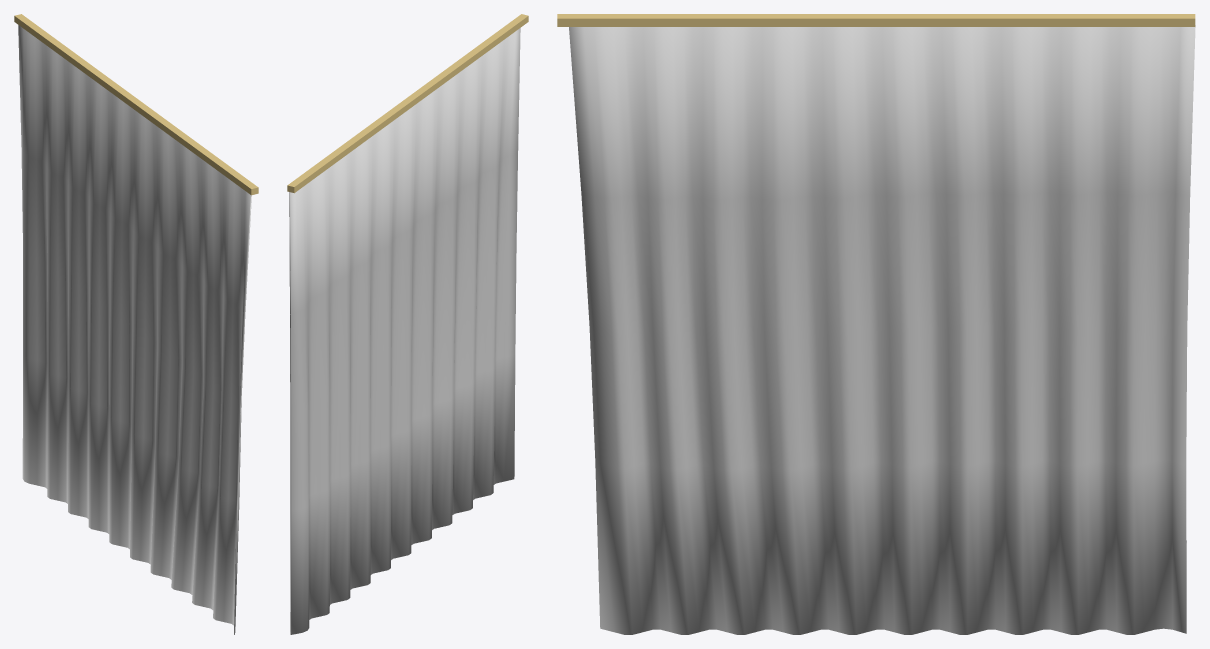
File: cortina.fbx
The picture shows the model from 3 angles, left to right: view 1: azimuth 30°, elevation 25°; view 2: azimuth 150°, elevation 25°; view 3: azimuth 270°, elevation 25°; orthographic projection. The views are drawn at different scales.
Visible parts, largest first — view 1: Plane.015, Cube.004; view 2: Plane.015, Cube.004; view 3: Plane.015, Cube.004.
Boxes of the visible parts, <box> form: Plane.015: <box>18,25,251,634</box>; Cube.004: <box>14,14,258,195</box>; Plane.015: <box>289,28,520,634</box>; Cube.004: <box>287,14,528,193</box>; Plane.015: <box>569,25,1195,634</box>; Cube.004: <box>557,14,1195,26</box>.
Bounding box in the file's own units: 9.58 × 296 × 279.
